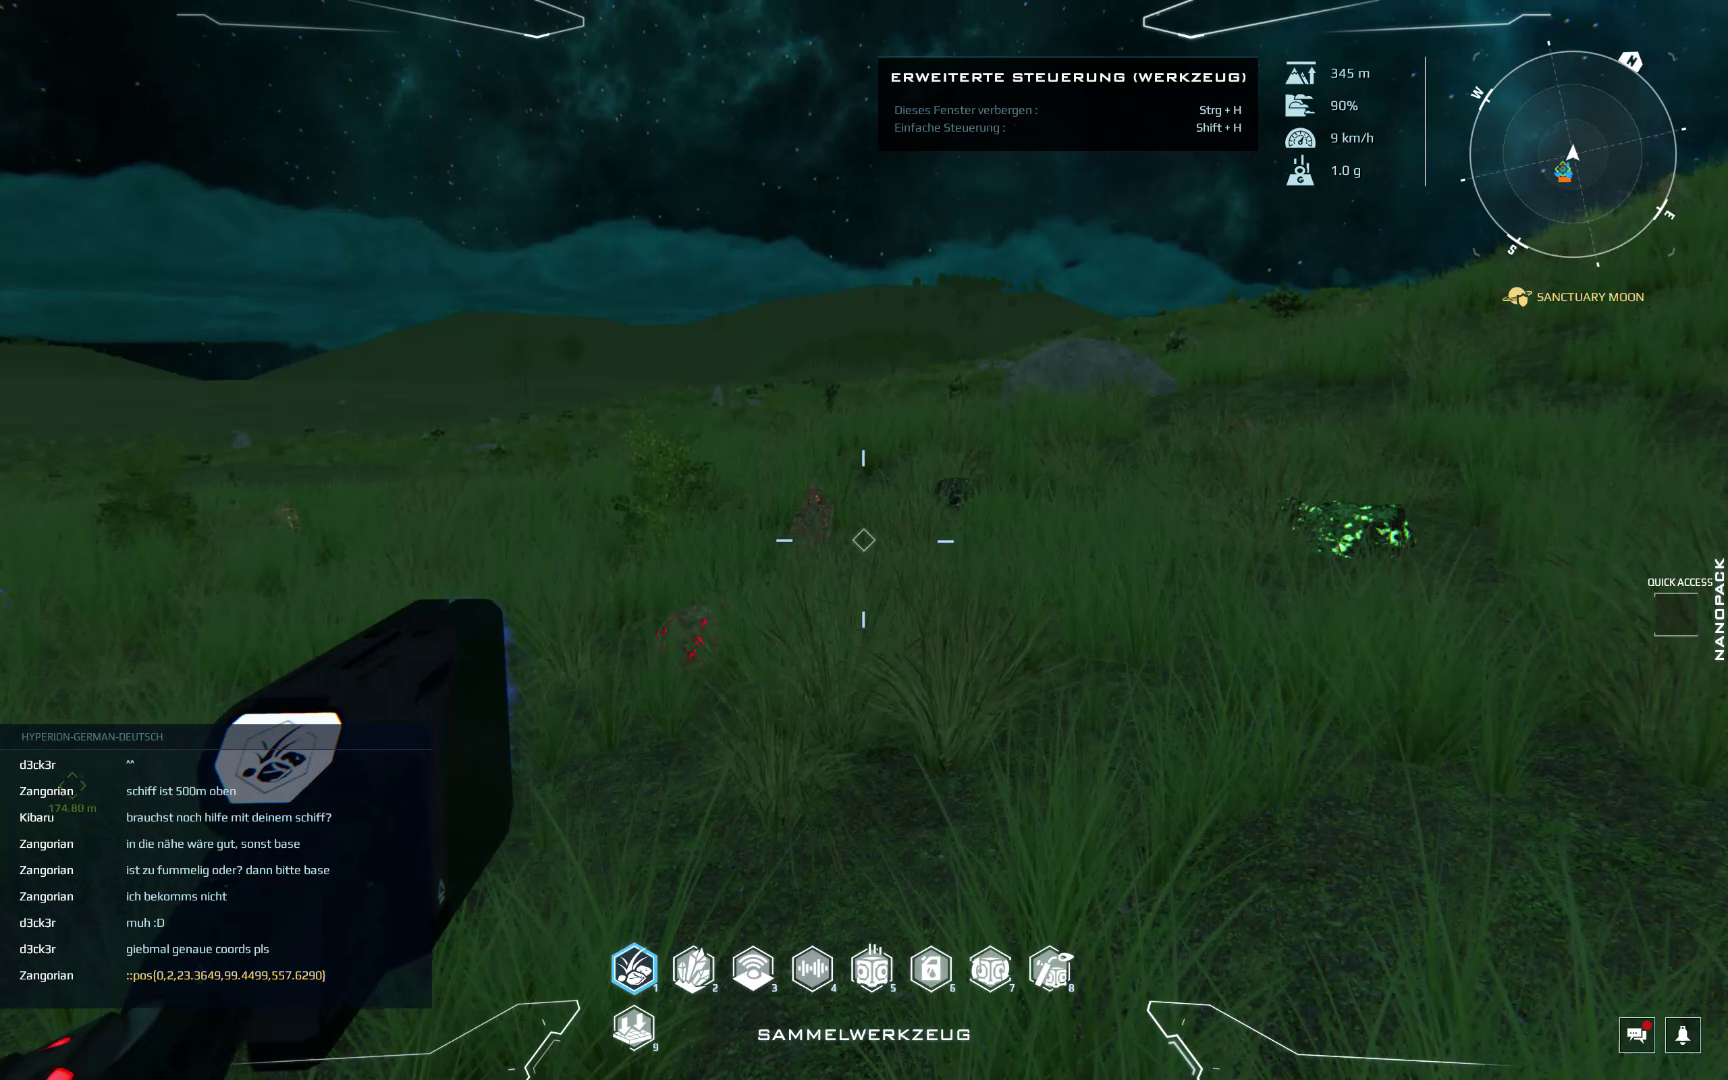Ore: (1270, 495, 1414, 570), (649, 603, 729, 672), (781, 484, 835, 547), (929, 474, 983, 511), (267, 501, 304, 533)
